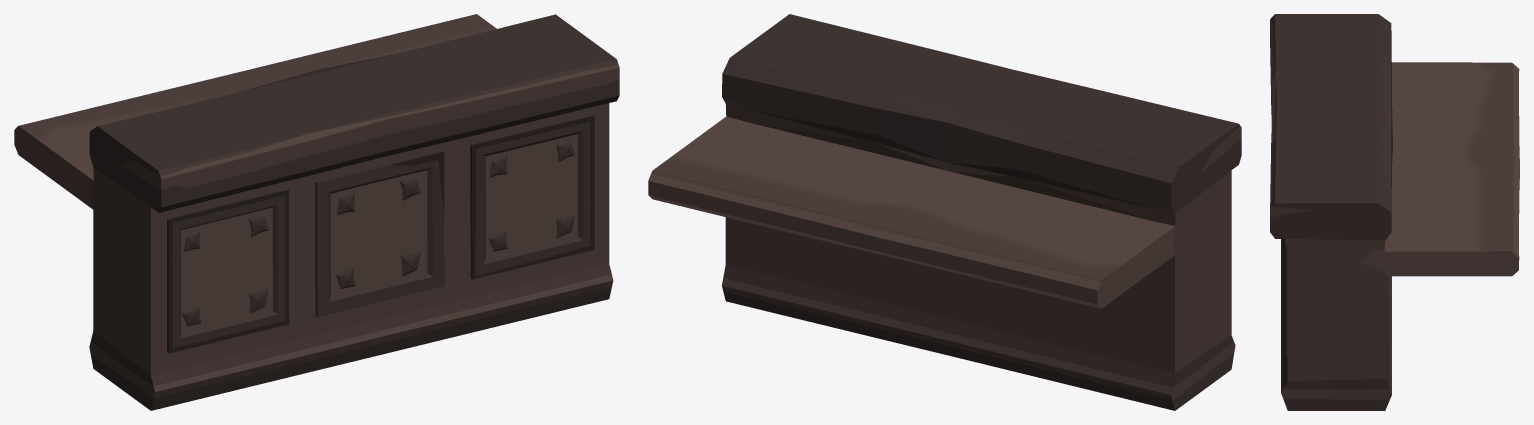
The model's file is SM_Prop_Desk_03.fbx.
The picture shows the model from 3 angles, left to right: view 1: azimuth 30°, elevation 25°; view 2: azimuth 150°, elevation 25°; view 3: azimuth 270°, elevation 25°; orthographic projection. The views are drawn at different scales.
Parts seen in each view (by area): view 1: SM_Prop_Desk_03; view 2: SM_Prop_Desk_03; view 3: SM_Prop_Desk_03.
Part boxes in pixels (x1,y1,x2,y2): SM_Prop_Desk_03: (14, 14, 619, 410); SM_Prop_Desk_03: (648, 14, 1241, 410); SM_Prop_Desk_03: (1270, 14, 1519, 410).
Bounding box in the file's own units: 250 × 128 × 140.
1 material, 1 textured.
